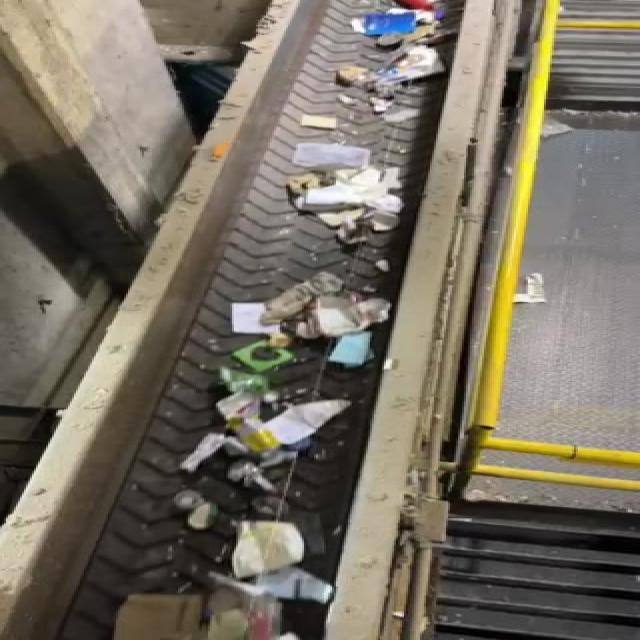metal: (221, 413, 287, 462)
